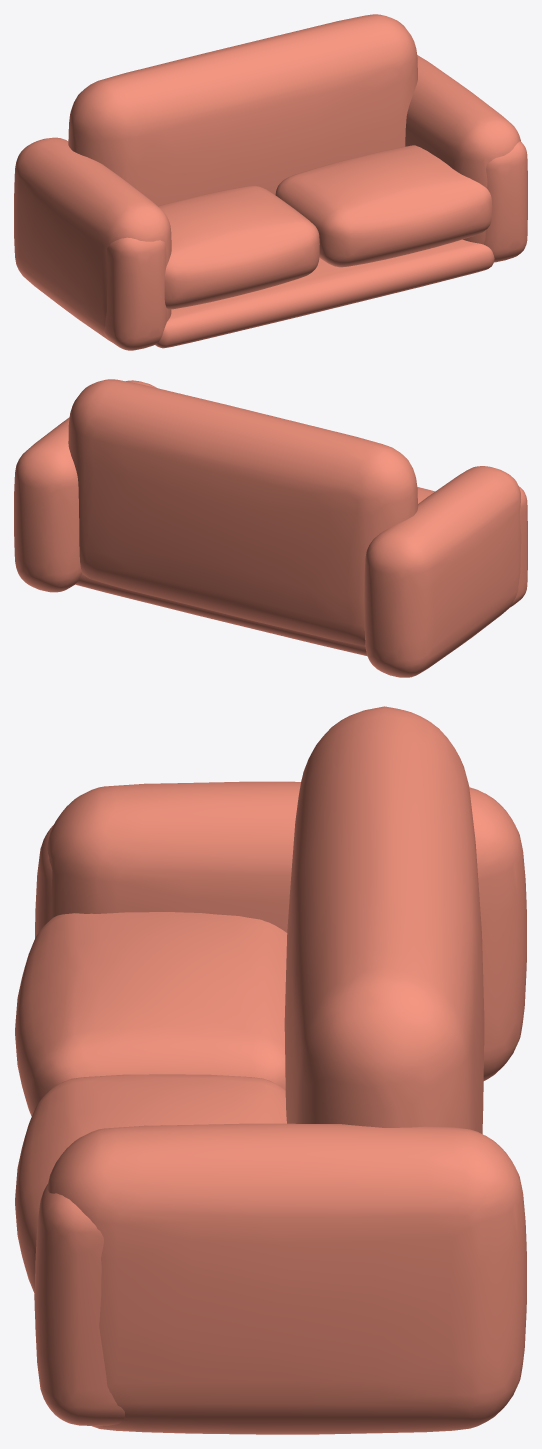
File: sofa_c.glb
3 renders of one model, top to bottom at view 1: azimuth 30°, elevation 25°; view 2: azimuth 150°, elevation 25°; view 3: azimuth 270°, elevation 25°, orthographic. The views are drawn at different scales.
Parts seen in each view (by area): view 1: body; view 2: body; view 3: body.
Part boxes in pixels (x1=…): body: x1=14, y1=14, x2=527, y2=350; body: x1=14, y1=379, x2=527, y2=677; body: x1=15, y1=706, x2=526, y2=1434.
Size of the model in its own units: 1.6 by 0.7604 by 0.8452.
